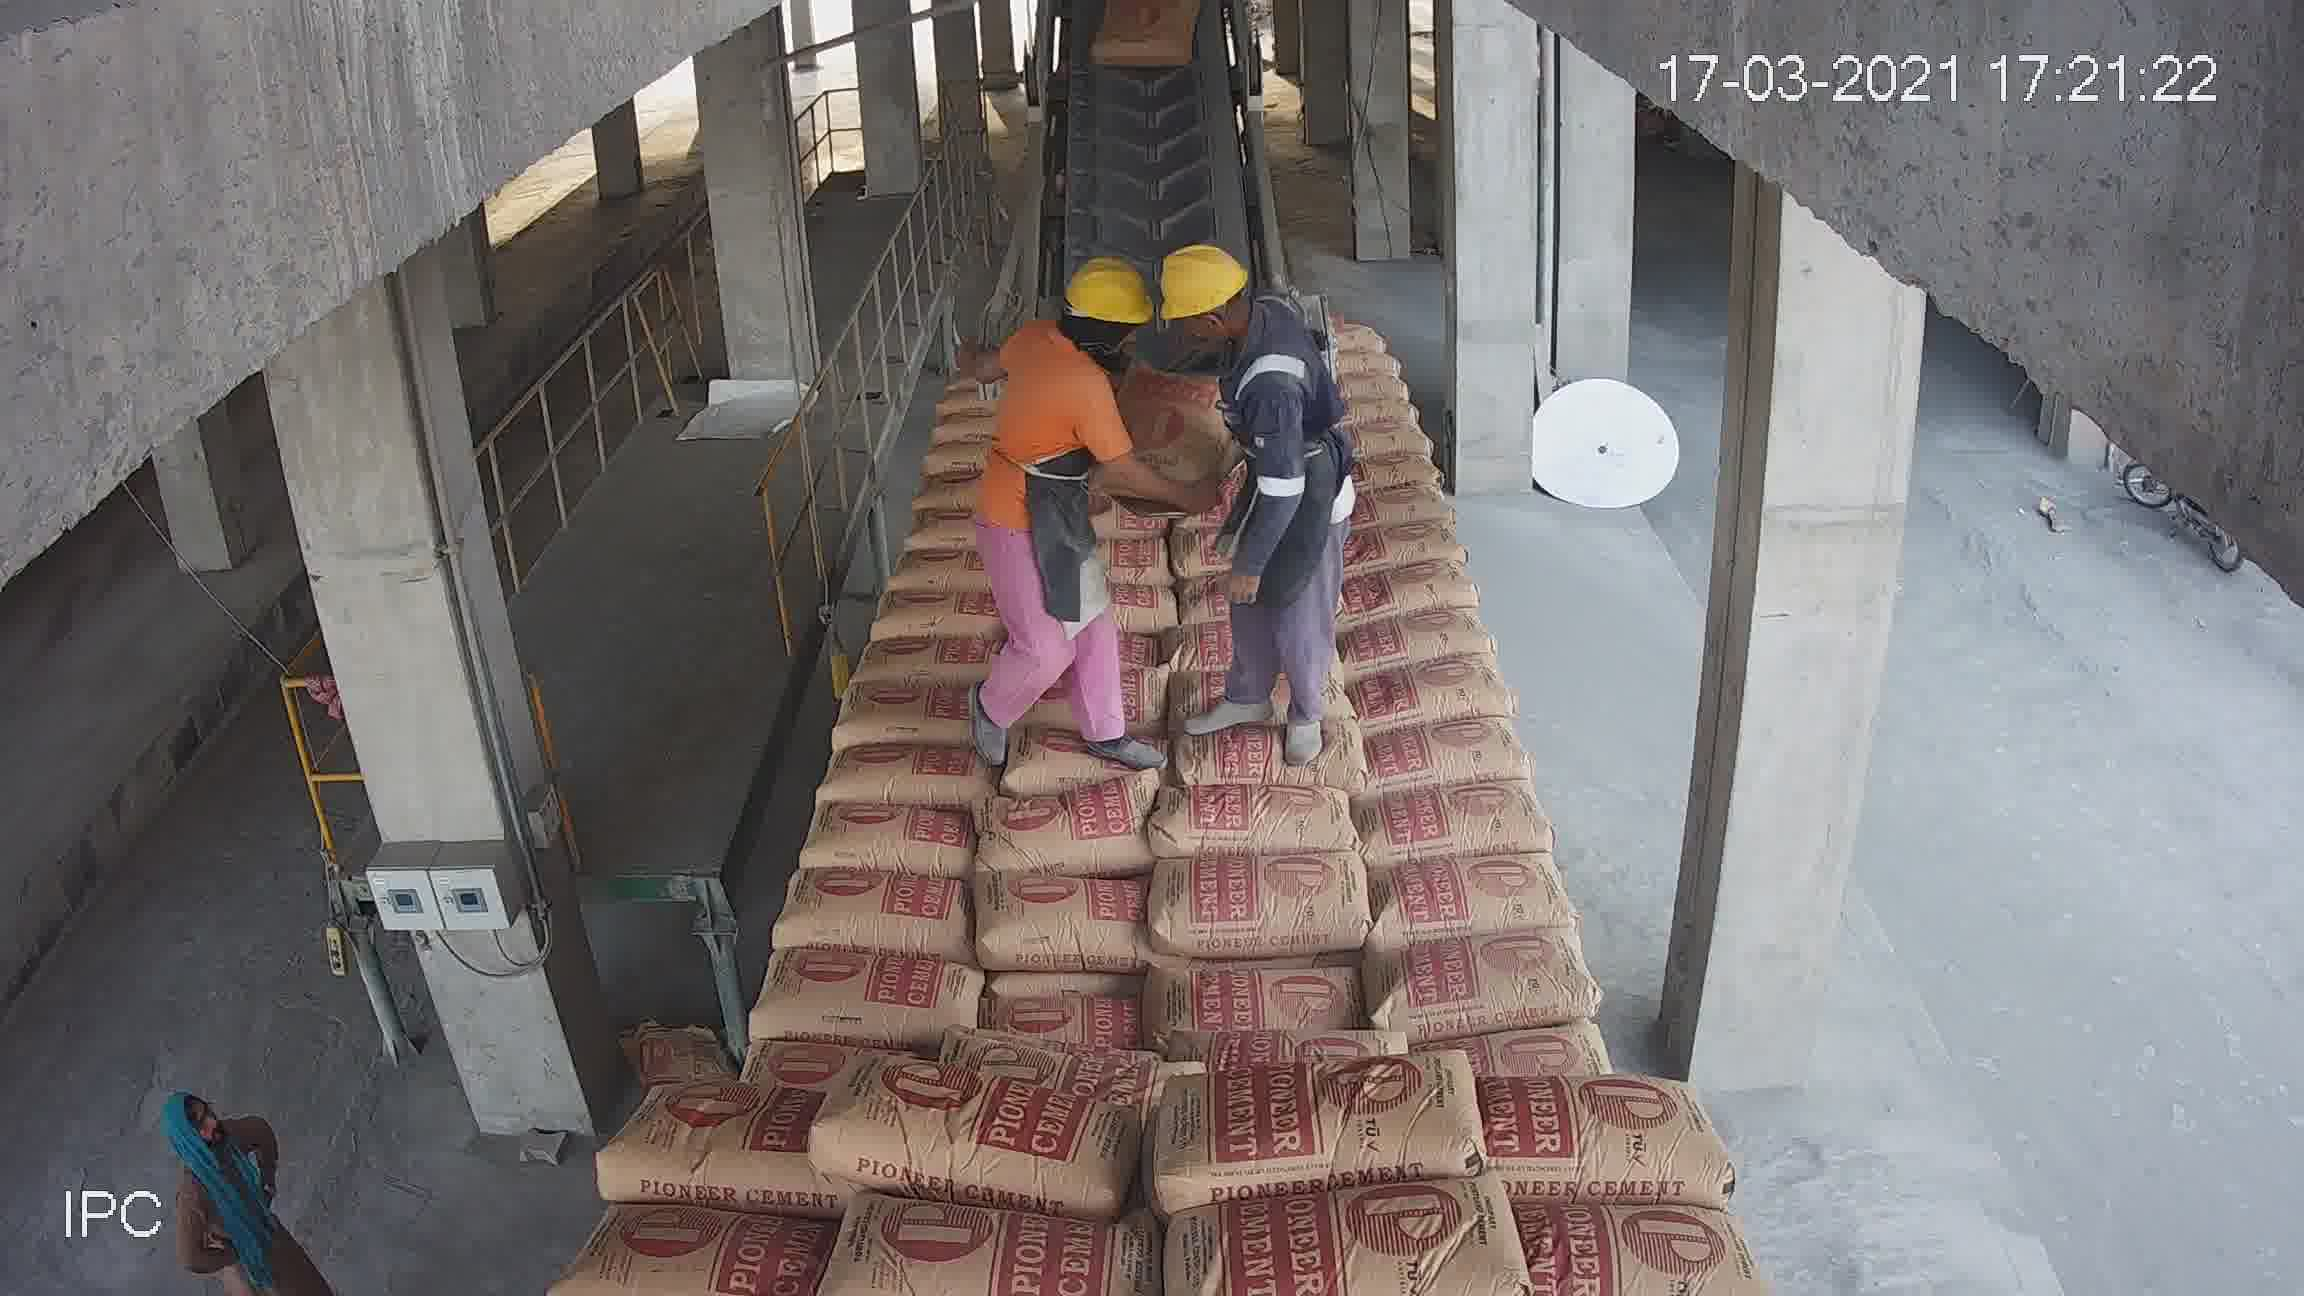bag_h: (1163, 1147, 1537, 1296), (1154, 1041, 1487, 1206), (1143, 929, 1461, 1086), (798, 1060, 1135, 1206), (1138, 818, 1438, 964), (579, 1076, 831, 1225), (873, 946, 1143, 1081), (1467, 1060, 1752, 1184), (815, 1198, 1158, 1296), (1146, 718, 1399, 850), (869, 836, 1144, 945), (900, 741, 1169, 851), (1454, 951, 1693, 1070), (636, 967, 873, 1086), (1502, 1192, 1774, 1283), (1429, 843, 1635, 956), (669, 855, 885, 961), (1396, 766, 1597, 862), (725, 772, 892, 870), (571, 1220, 813, 1285), (999, 668, 1185, 744), (1157, 551, 1326, 616), (999, 620, 1179, 680), (1185, 503, 1310, 579), (1405, 647, 1513, 725), (1003, 725, 1157, 775), (1036, 532, 1161, 593), (1393, 728, 1537, 777), (1173, 606, 1291, 665), (910, 503, 1032, 557), (1036, 585, 1176, 631), (891, 472, 1013, 511), (911, 541, 1041, 578), (916, 430, 992, 475)
belt: (1025, 6, 1287, 476)
